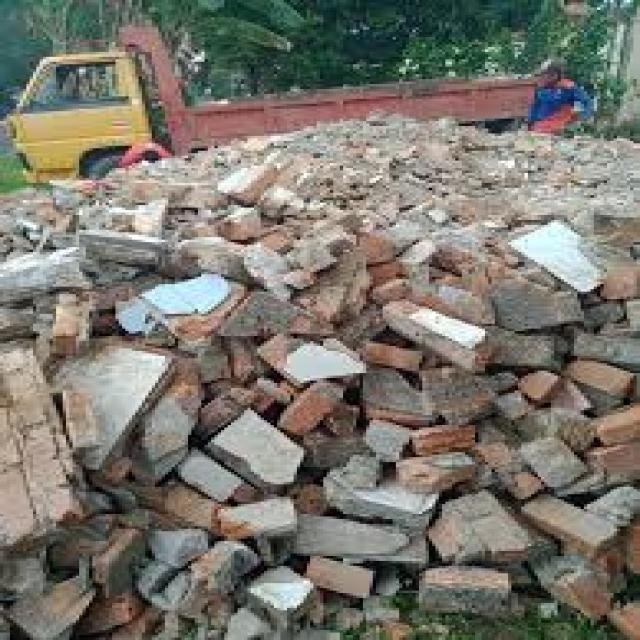Pecahan Agregat: (39, 283, 639, 631)
